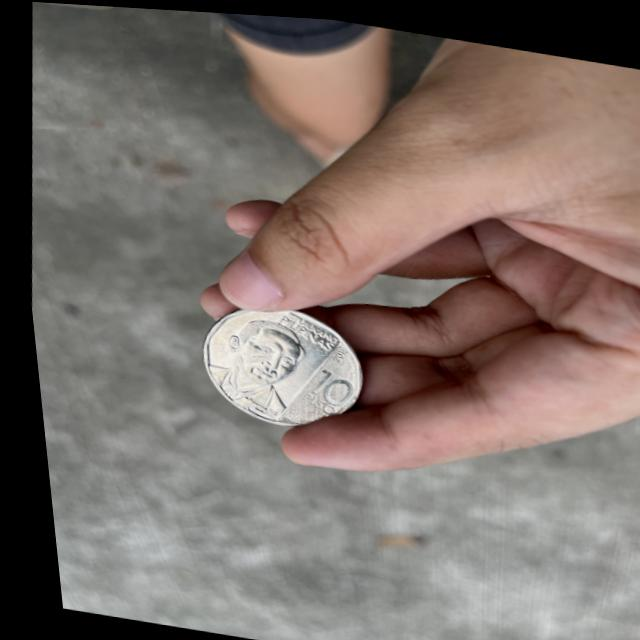10_New_Front: (290, 363, 341, 418)
